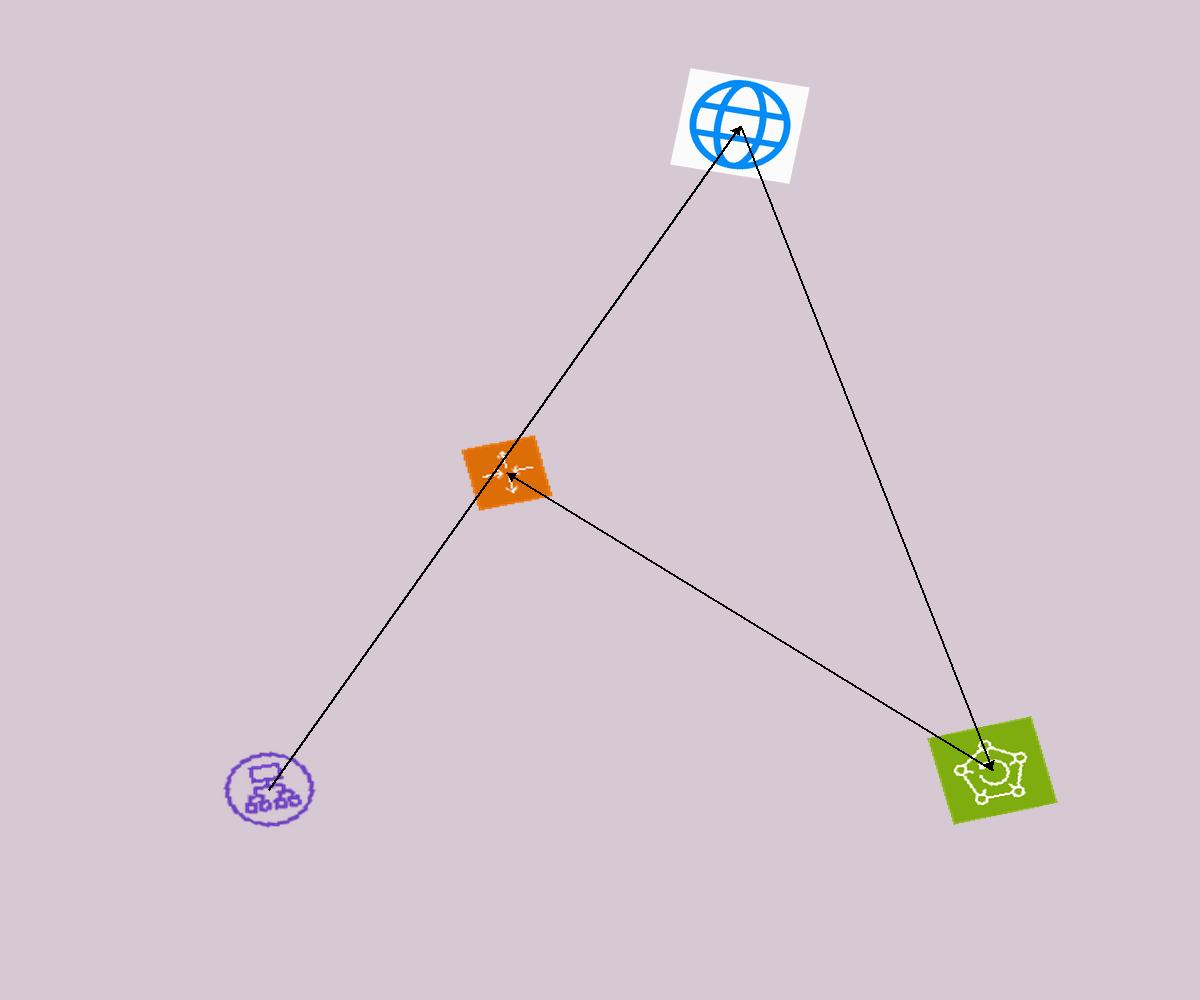AWS-Backup: (927, 716, 1058, 825)
AWS-Res_Elastic-Load-Balancing_Application-Load-Balancer: (211, 741, 328, 838)
AWS-Scaling-group: (460, 434, 554, 512)
Azure_http: (670, 68, 810, 184)
